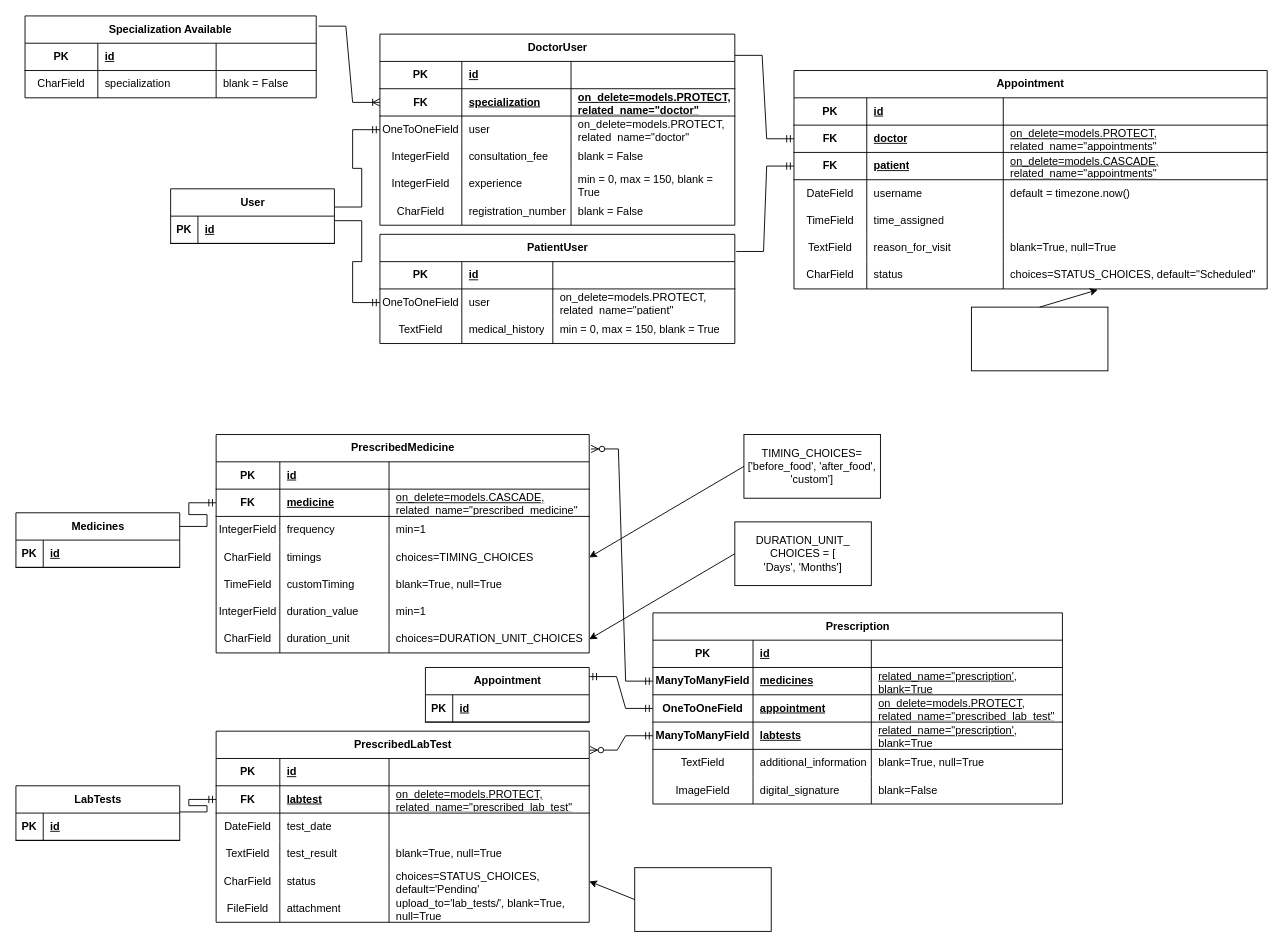
This 1283x947 diagram has some shape labels left out. The centre of each missing label's shape, as x and y in pixels:
"STATUS_CHOICES= ['Pending', 'Completed', 'Cancelled' ]" belongs at point (702, 899).
"STATUS_CHOICES= ['Scheduled', 'Completed', 'Cancelled', 'No Show' ]" belongs at point (1039, 338).
